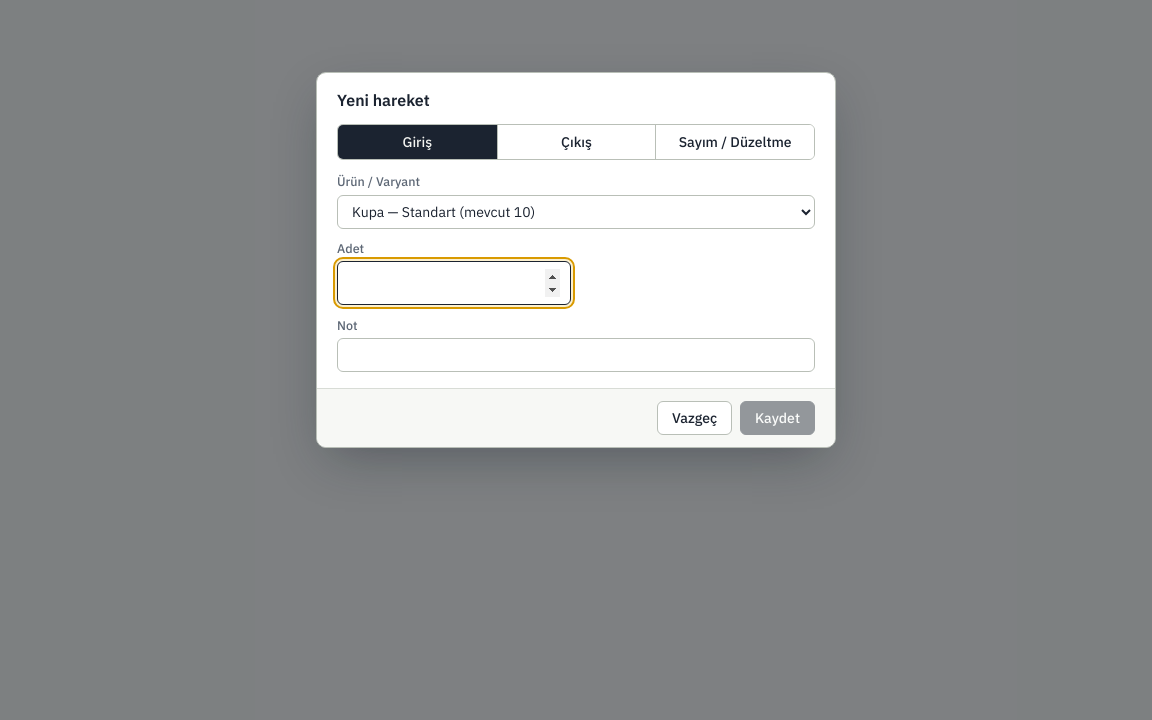
Test: MovementDialog › previews the adjustment difference as counted minus current
Click the tab "Sayım / Düzeltme".
click(735, 142)  # box [655, 125, 814, 160]
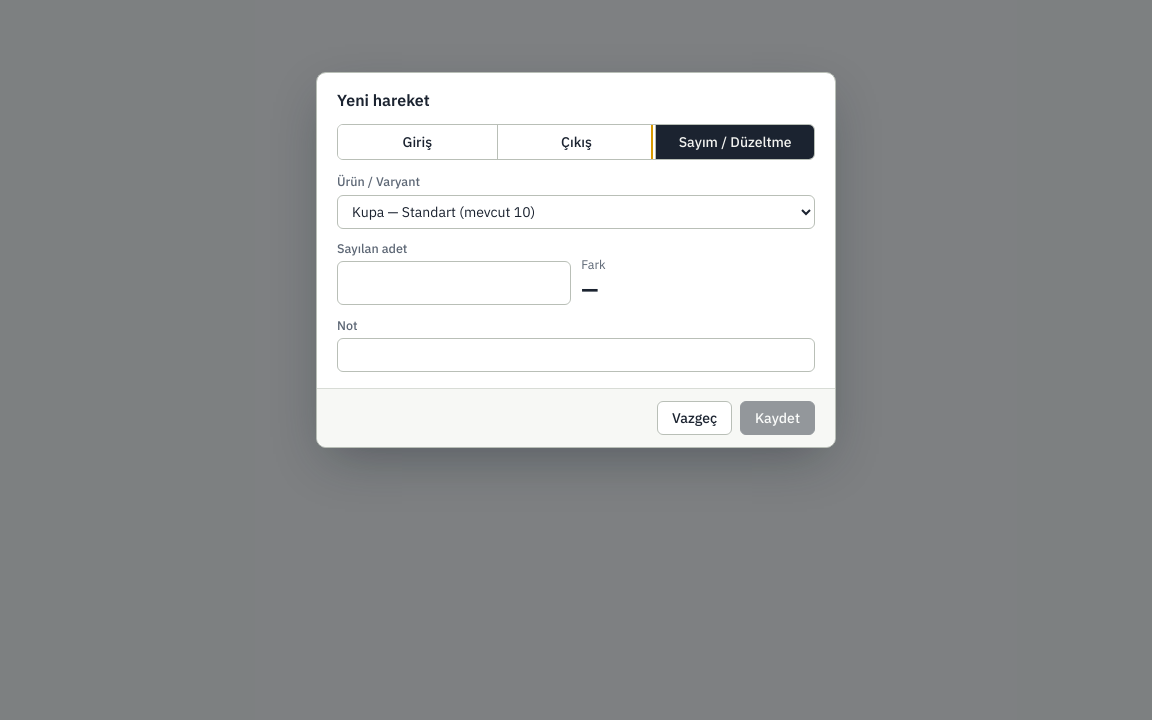
Expected: the dropdown labelled "Ürün / Varyant" shows "Kupa — Standart (mevcut 10)", [337, 195, 815, 229]
Type "7" into the number field labelled "Sayılan adet".
click(454, 283); type("7")  # box [337, 261, 571, 305]
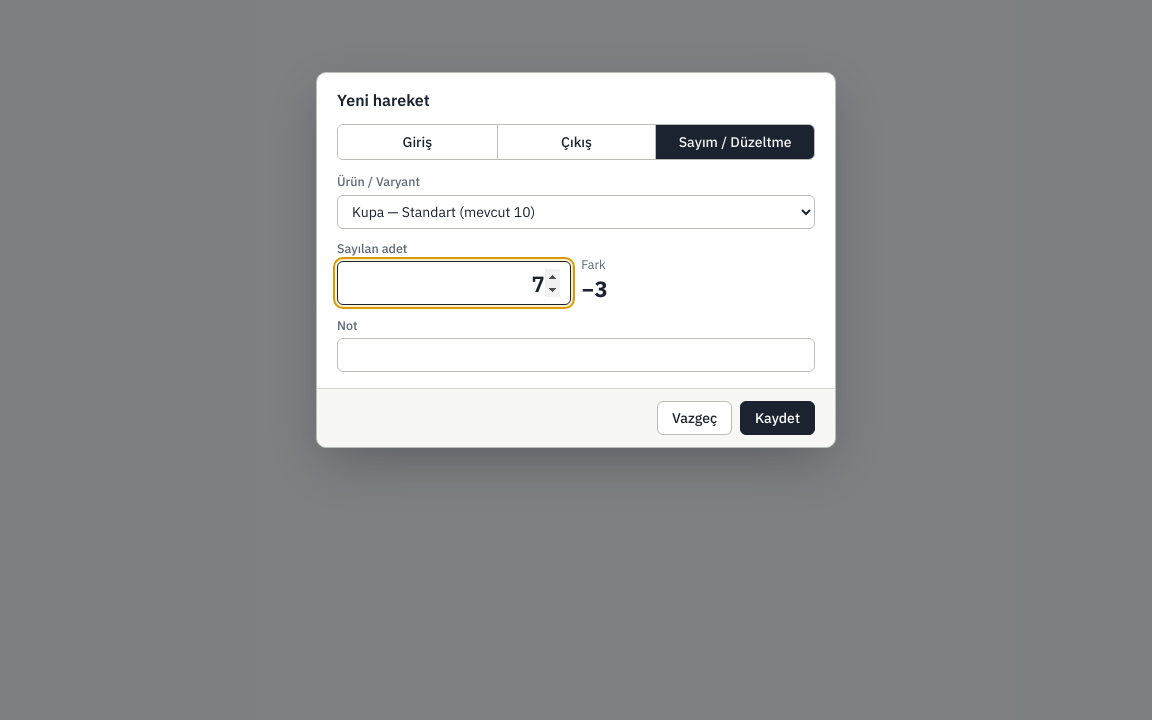
Expected: the text with test id "diff" reads "−3", [581, 274, 608, 303]
